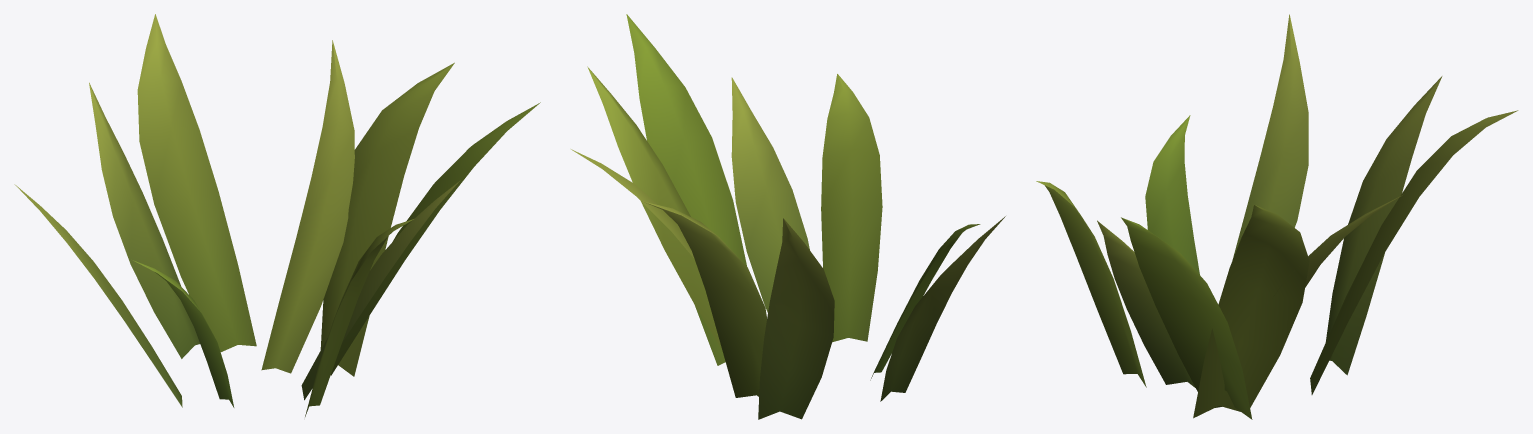
File: grass_tiny.glb
3 renders of one model, left to right at view 1: azimuth 30°, elevation 25°; view 2: azimuth 150°, elevation 25°; view 3: azimuth 270°, elevation 25°, orthographic. The views are drawn at different scales.
Parts seen in each view (by area): view 1: Plant; view 2: Plant; view 3: Plant.
Boxes of the visible parts, bbox=[...] form: Plant: bbox=[14, 14, 540, 416]; Plant: bbox=[571, 14, 1005, 419]; Plant: bbox=[1036, 14, 1518, 419].
Bounding box in the file's own units: 0.2389 × 0.1343 × 0.2076.
